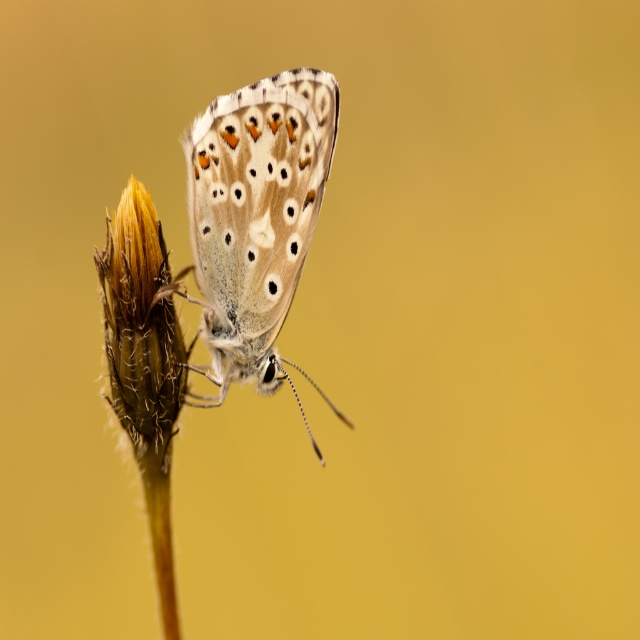Butterfly: (151, 68, 354, 463)
